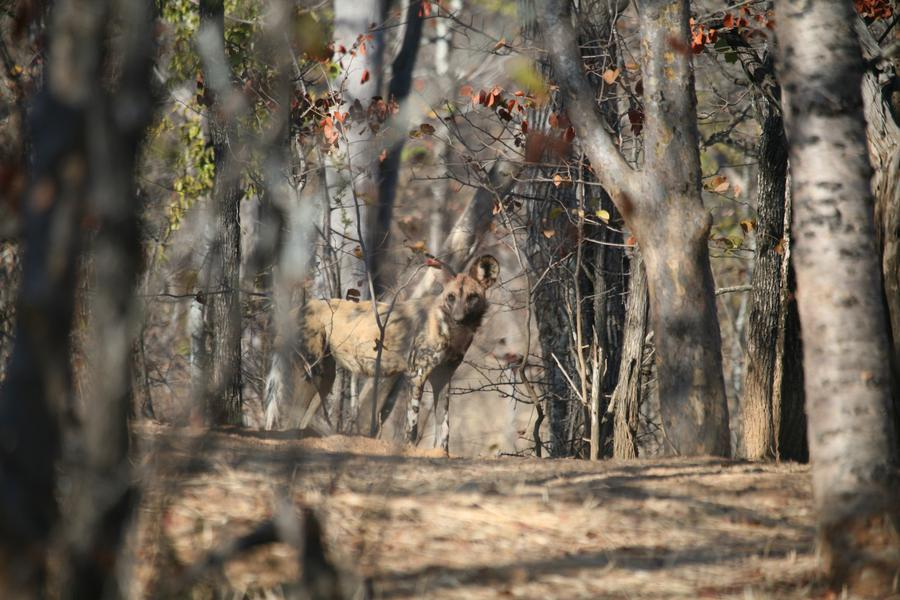wilddog: (265, 262, 476, 402)
